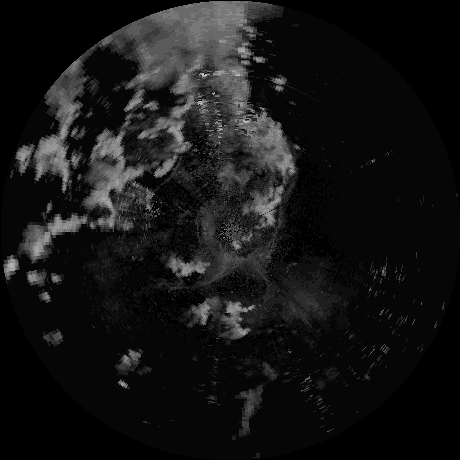frontgust: (165, 277, 216, 293), (268, 203, 284, 246), (165, 156, 182, 182)
